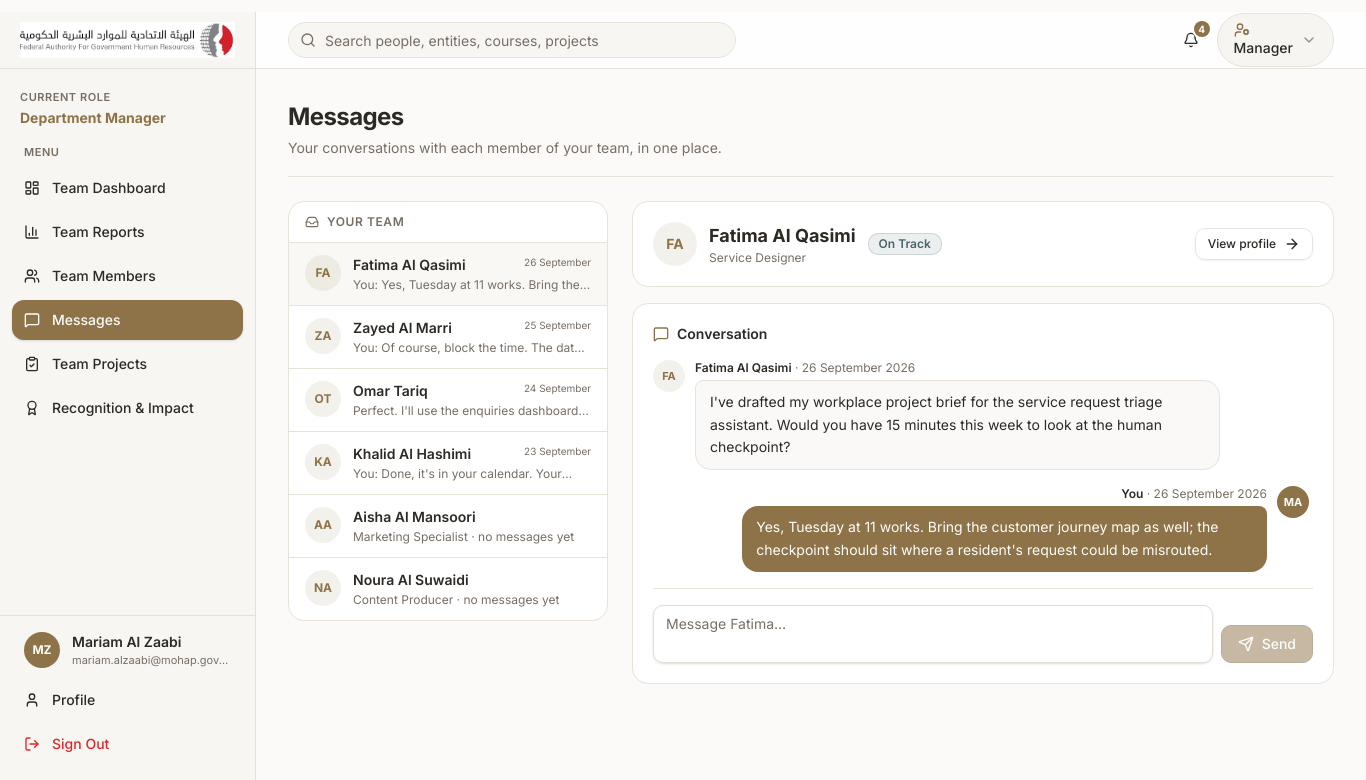
Test: the manager's Messages tab › lists the team with their seeded conversations, most recent first, and lets the manager reply
Check: the heading "Fatima Al Qasimi" is shown, box [709,222,856,250]
Check: the text "service request triage assistant" is shown, box [710,393,1162,455]
Type "See you Tuesday at 11." into the text box with test id "input-direct-reply".
click(933, 634); type("See you Tuesday at 11.")  # box [653,604,1213,662]
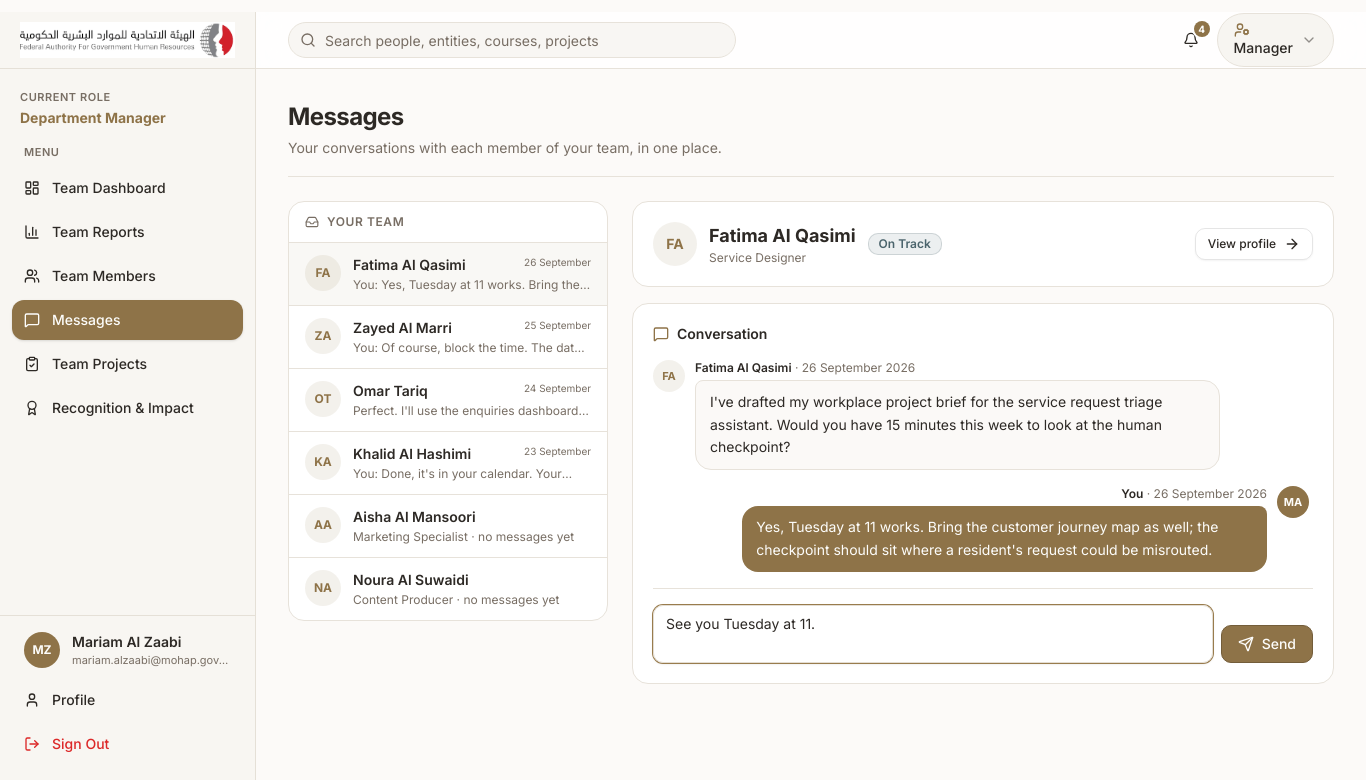
Click the button with test id "button-direct-send".
click(1267, 644)  # box [1221,624,1313,662]
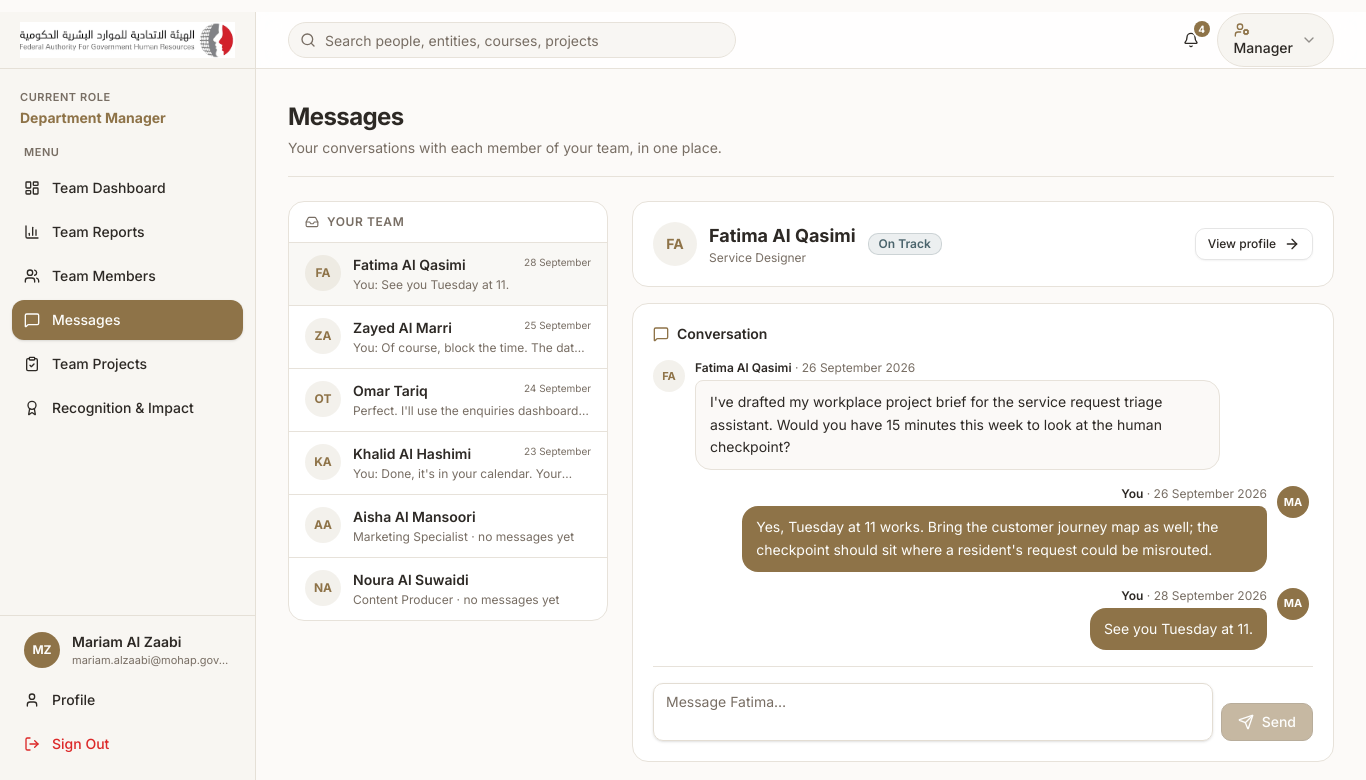
Check: the element with test id "message-mine" shows "See you Tuesday at 11.", box [1104,620,1253,636]
